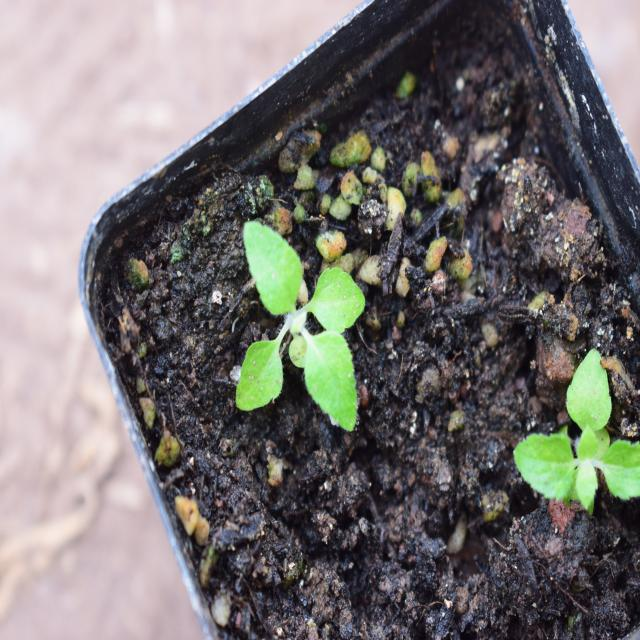billygoat_weed: (227, 212, 378, 438), (513, 322, 640, 547)
